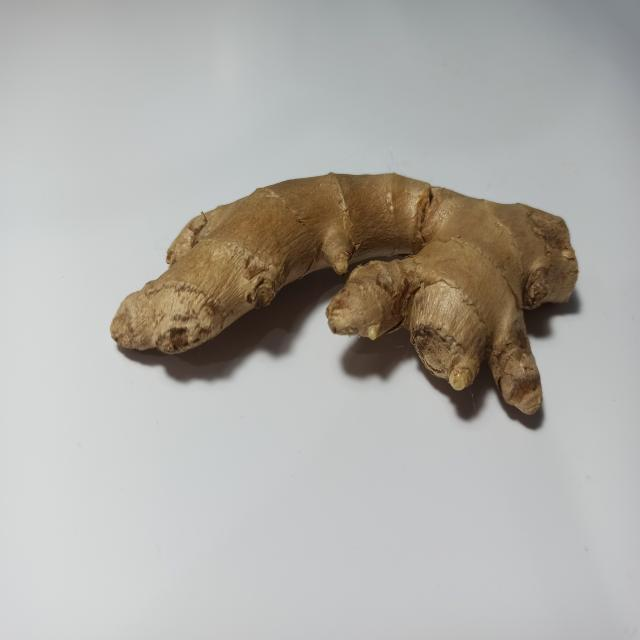ginger: (122, 176, 572, 414)
